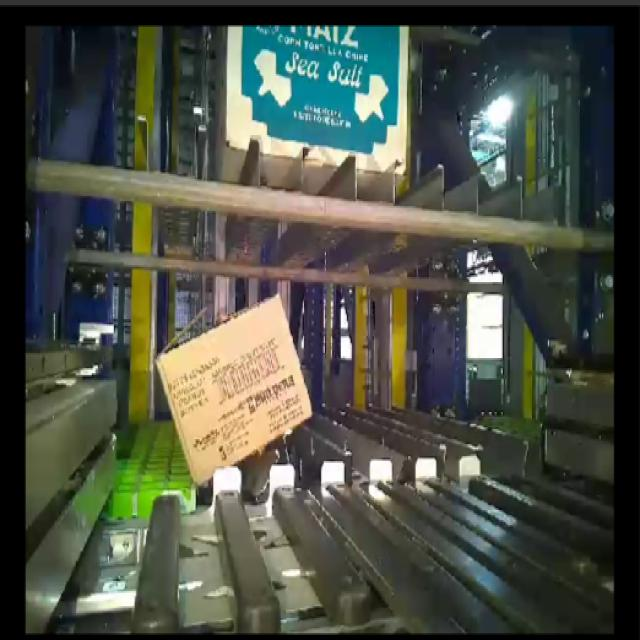box: (132, 294, 342, 493)
